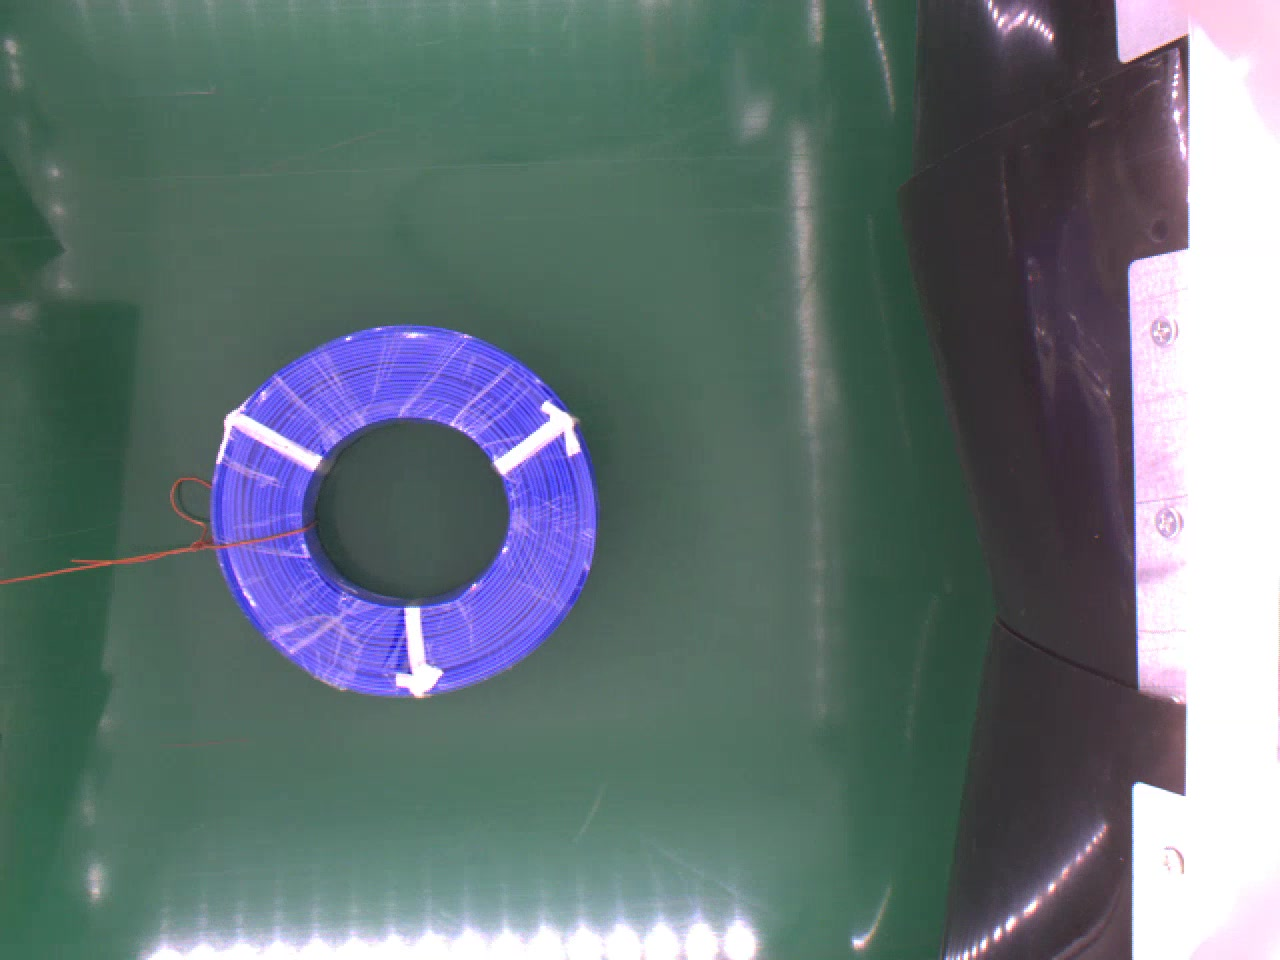blue: (208, 315, 600, 707)
